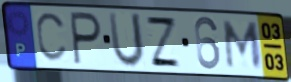6: (193, 15, 222, 73)
C: (34, 11, 69, 65)
M: (222, 19, 264, 71)
P: (68, 10, 104, 68)
U: (106, 10, 147, 70)
Z: (143, 15, 183, 70)
